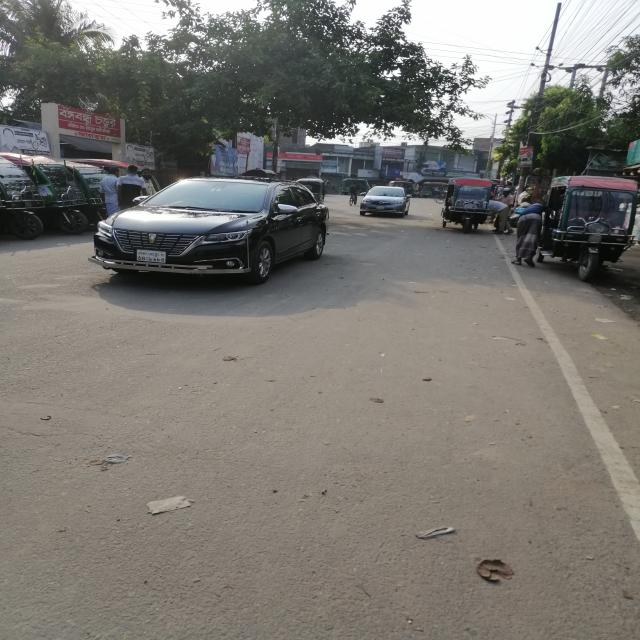Car: (88, 169, 338, 293)
